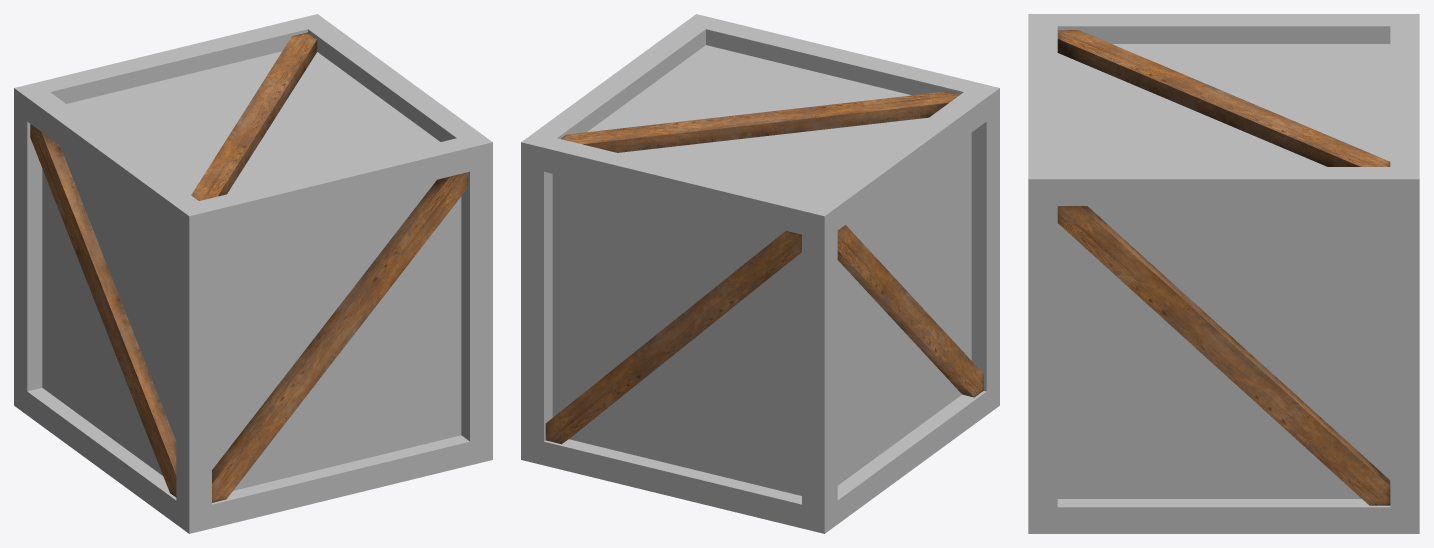
3 views of the same model, side by side, from view 1: azimuth 30°, elevation 25°; view 2: azimuth 150°, elevation 25°; view 3: azimuth 270°, elevation 25° (orthographic). The views are drawn at different scales.
Parts seen in each view (by area): view 1: crate; view 2: crate; view 3: crate.
Boxes of the visible parts, x1,y1,x2,y2 form: crate: (14,14,492,533); crate: (521,14,999,533); crate: (1028,14,1419,533).
Bounding box in the file's own units: 1 × 1 × 1.
